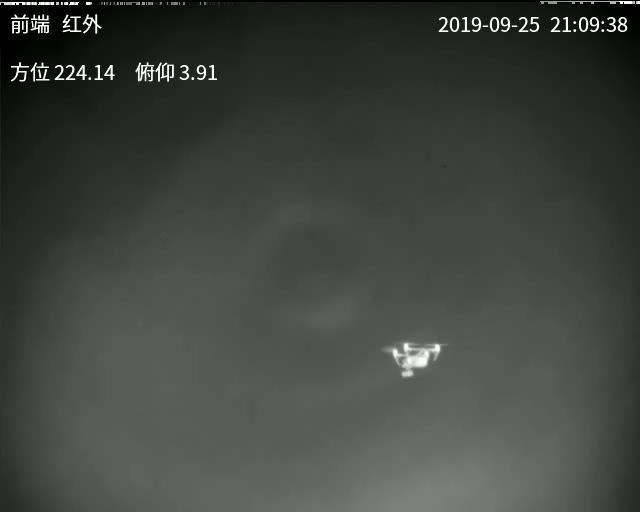uav: (387, 337, 444, 382)
